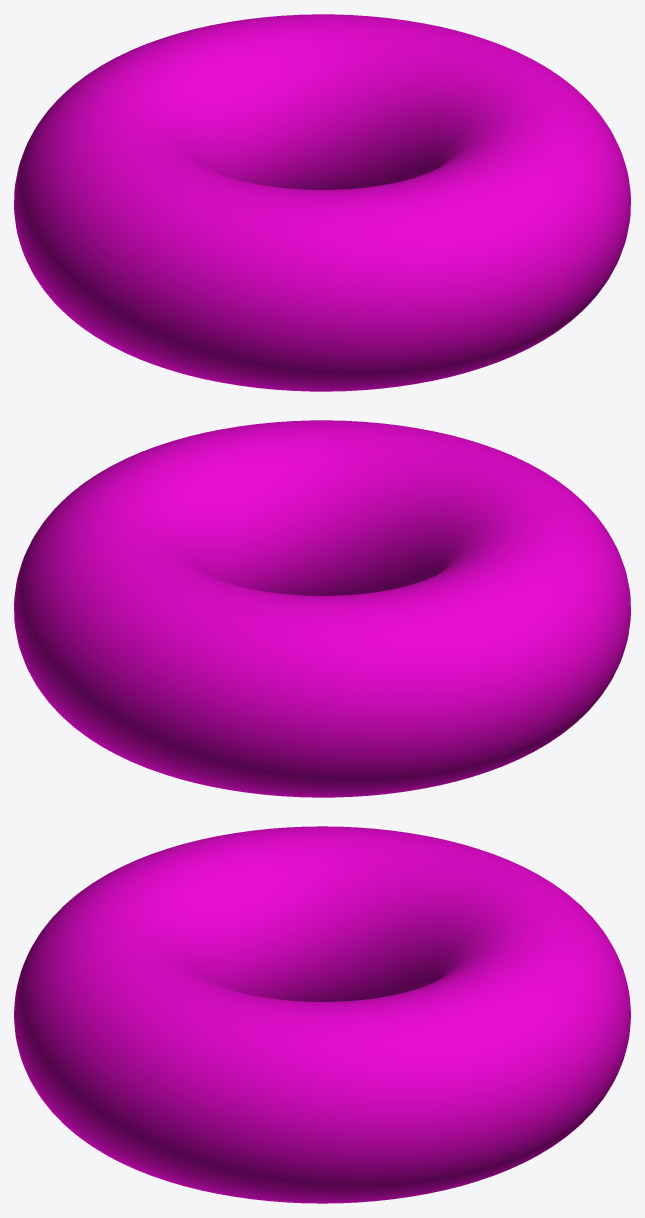
3 views of the same model, one above another, from view 1: azimuth 30°, elevation 25°; view 2: azimuth 150°, elevation 25°; view 3: azimuth 270°, elevation 25° (orthographic).
Parts seen in each view (by area): view 1: Torus; view 2: Torus; view 3: Torus.
Part boxes in pixels (box(x1,y1,x2,y2)): Torus: box(14, 14, 630, 391); Torus: box(14, 420, 630, 797); Torus: box(14, 826, 630, 1203).
Size of the model in its own units: 3.06 by 1 by 3.06.
